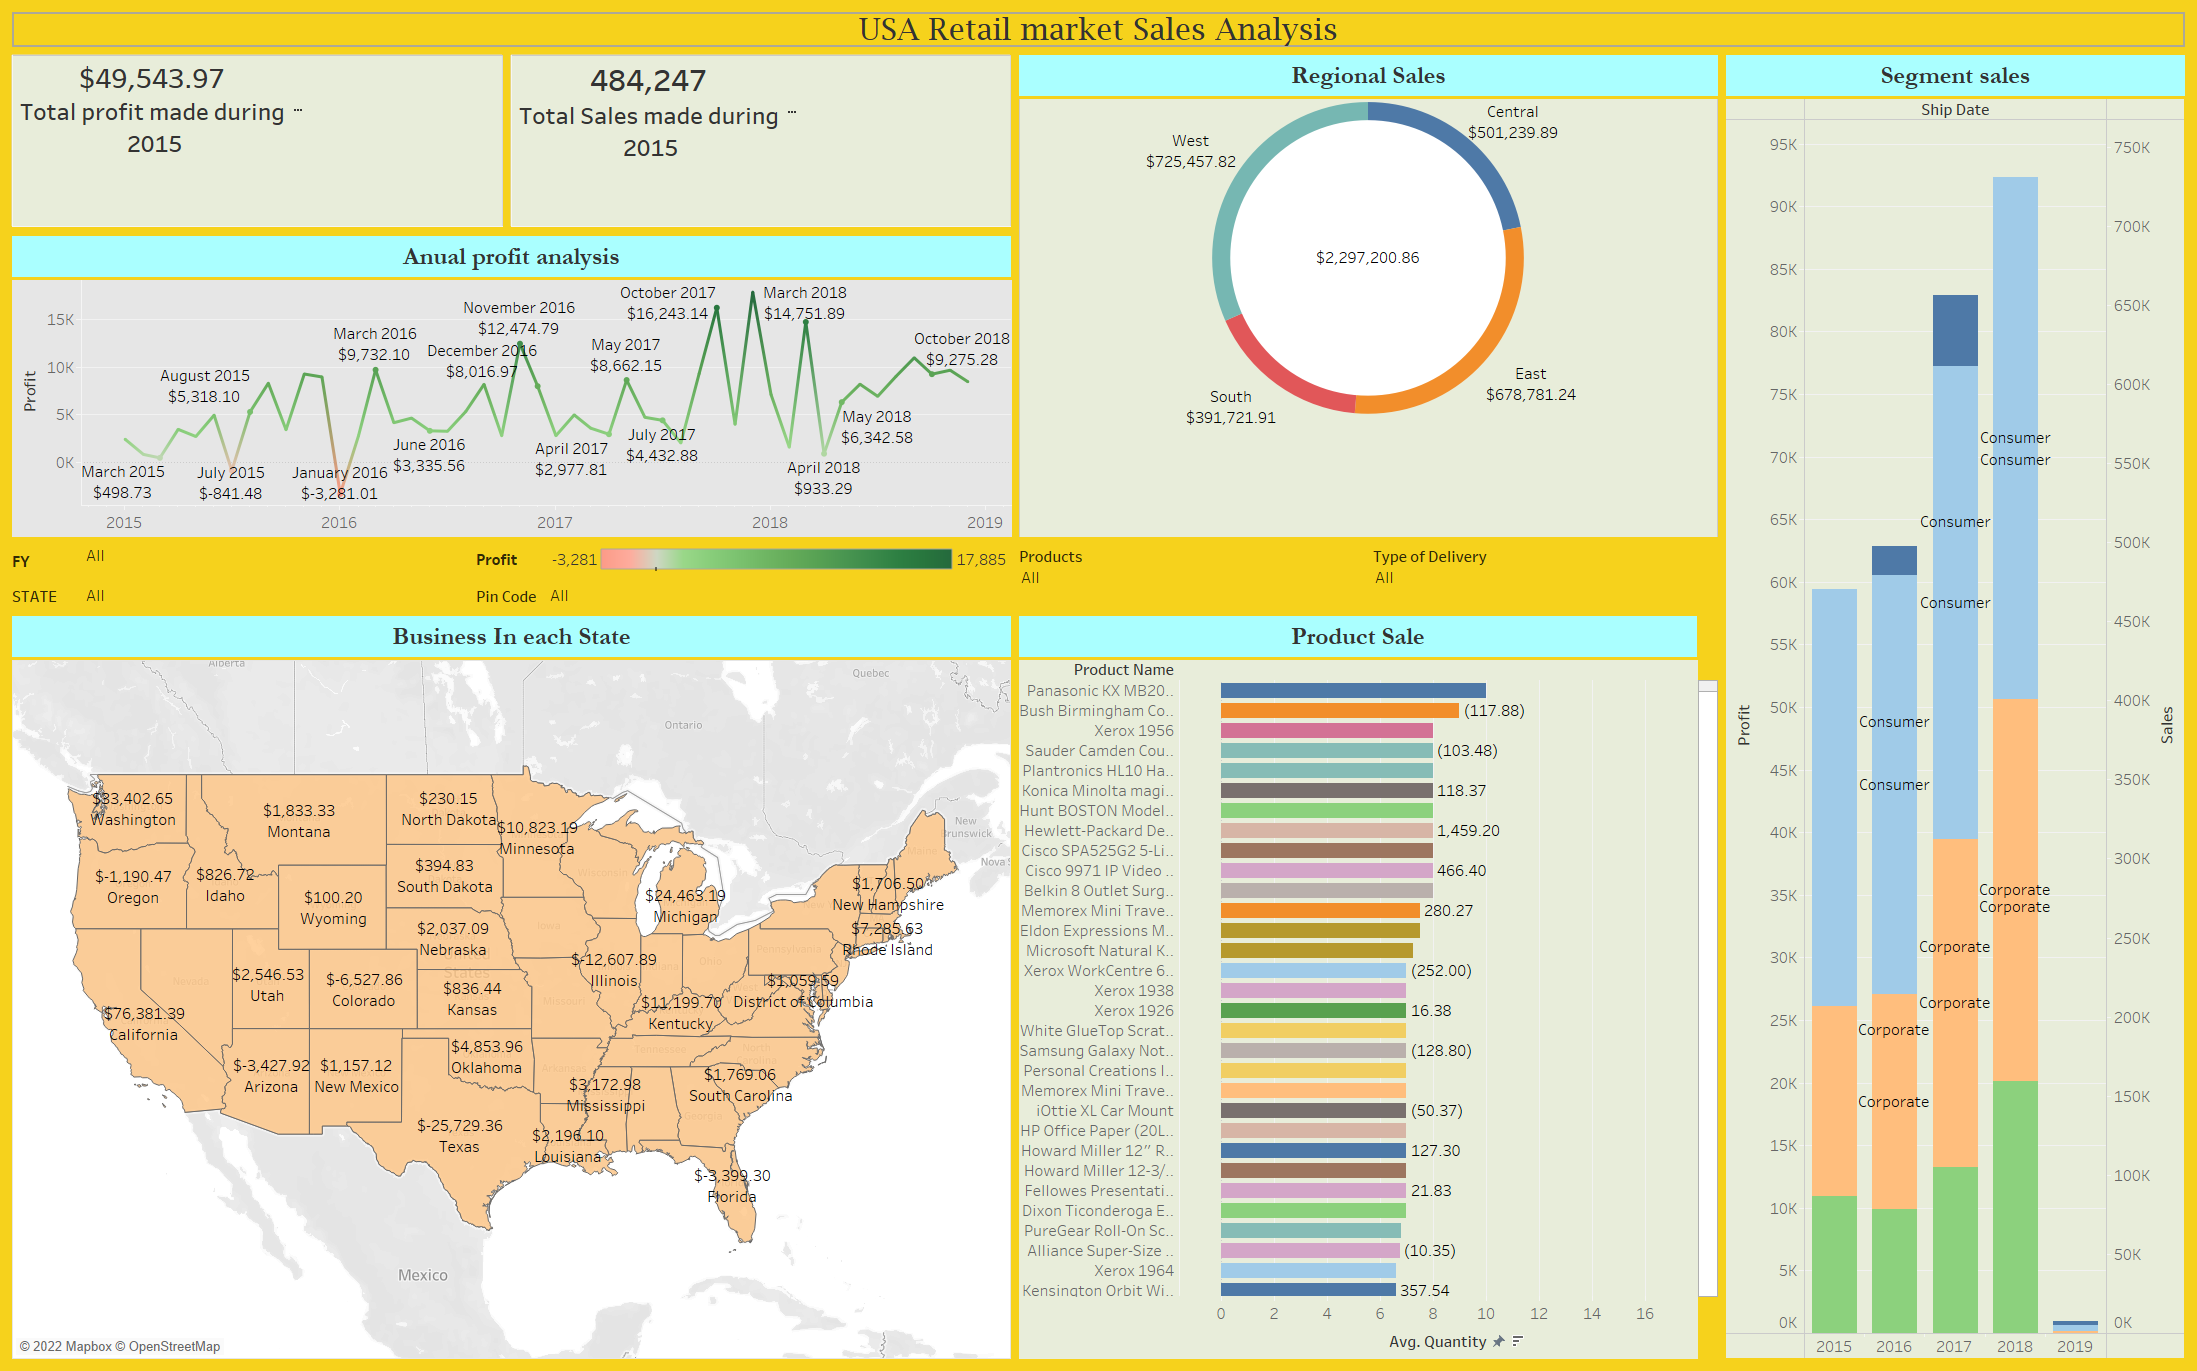

Layout of this report page (visuals, bound fields, positions):
{"tool":"tableau","page":{"name":"USA Retail market Sales Analysis","canvas":[2197,1371],"ordinal":0},"visuals":[{"type":"title","box":[8,8,2181,43]},{"type":"worksheet","title":"Finical Year and Profit in USD","mark":"Automatic","box":[8,51,499,181]},{"type":"worksheet","title":"Sales","mark":"Automatic","box":[507,51,508,181]},{"type":"worksheet","title":"Regional Sales","mark":"Pie","rows":["Quantity","Quantity"],"box":[1015,51,707,490]},{"type":"worksheet","title":"Segment sales","mark":"Bar","rows":["Profit","Sales"],"cols":["Ship Date"],"box":[1722,51,467,1312]},{"type":"worksheet","title":"Anual profit analysis","mark":"Automatic","rows":["Profit"],"cols":["Order Date"],"box":[8,232.1,1007,308.9]},{"type":"filter","title":"Anual profit analysis","param":"[federated.17kgt4s08uo8r411wq1e00kc9hyo].[yr:Order Date:ok]","box":[8,541,464,39.6]},{"type":"legend","title":"Anual profit analysis","param":"[federated.17kgt4s08uo8r411wq1e00kc9hyo].[sum:Profit:qk]","box":[472,541,543,39.6]},{"type":"filter","title":"Product Sale","param":"[federated.17kgt4s08uo8r411wq1e00kc9hyo].[none:Sub-Category:nk]","box":[1015,541,353.5,71]},{"type":"filter","title":"Segment sales","param":"[federated.17kgt4s08uo8r411wq1e00kc9hyo].[none:Ship Mode:nk]","box":[1368.5,541,353.5,71]},{"type":"filter","title":"Business In each State","param":"[federated.17kgt4s08uo8r411wq1e00kc9hyo].[none:State:nk]","box":[8,580.6,464,31]},{"type":"filter","title":"Business In each State","param":"[federated.17kgt4s08uo8r411wq1e00kc9hyo].[none:Postal Code:ok]","box":[472,580.6,543,31]},{"type":"worksheet","title":"Business In each State","mark":"Multipolygon","box":[8,611.6,1007,751.4]},{"type":"worksheet","title":"Product Sale","mark":"Automatic","rows":["Product Name"],"cols":["Quantity"],"box":[1015,612,707,751]}]}

Visuals, with their boxes in screenshot pixels (x1, y1, x2, y2), scaled from the page's 2197x1371 canvas onto the 2197x1371 screenshot:
title: {"x1": 8, "y1": 8, "x2": 2189, "y2": 51}
"Finical Year and Profit in USD" worksheet: {"x1": 8, "y1": 51, "x2": 507, "y2": 232}
"Sales" worksheet: {"x1": 507, "y1": 51, "x2": 1015, "y2": 232}
"Regional Sales" worksheet (Pie marks): {"x1": 1015, "y1": 51, "x2": 1722, "y2": 541}
"Segment sales" worksheet (Bar marks): {"x1": 1722, "y1": 51, "x2": 2189, "y2": 1363}
"Anual profit analysis" worksheet: {"x1": 8, "y1": 232, "x2": 1015, "y2": 541}
"Anual profit analysis" filter: {"x1": 8, "y1": 541, "x2": 472, "y2": 581}
"Anual profit analysis" legend: {"x1": 472, "y1": 541, "x2": 1015, "y2": 581}
"Product Sale" filter: {"x1": 1015, "y1": 541, "x2": 1368, "y2": 612}
"Segment sales" filter: {"x1": 1368, "y1": 541, "x2": 1722, "y2": 612}
"Business In each State" filter: {"x1": 8, "y1": 581, "x2": 472, "y2": 612}
"Business In each State" filter: {"x1": 472, "y1": 581, "x2": 1015, "y2": 612}
"Business In each State" worksheet (Multipolygon marks): {"x1": 8, "y1": 612, "x2": 1015, "y2": 1363}
"Product Sale" worksheet: {"x1": 1015, "y1": 612, "x2": 1722, "y2": 1363}
